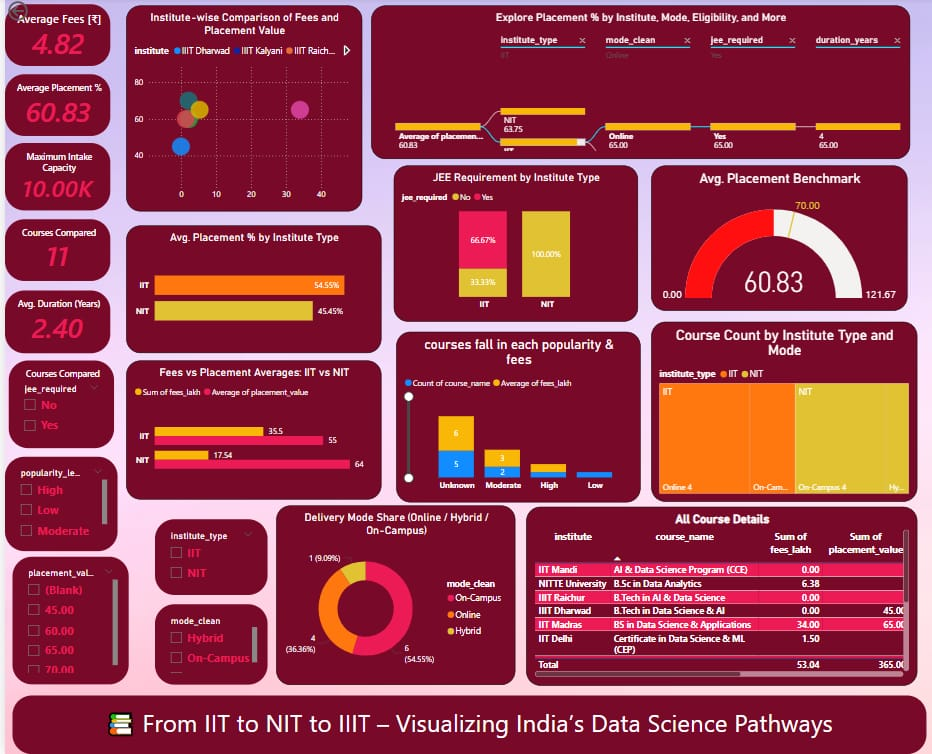

Layout of this report page (visuals, bound fields, positions):
{"tool":"powerbi","page":{"name":"Page 1","canvas":[1435,1166],"ordinal":0},"visuals":[{"type":"card","title":"Average Fees [₹]","fields":{"Values":["Avg(SQL_DS.fees_lakh)"]},"box":[0,10,162.5,95.5],"z":0},{"type":"card","title":"Average Placement %","fields":{"Values":["Avg(SQL_DS.placement_value)"]},"box":[0,118.3,162.5,95.5],"z":1000},{"type":"card","title":"Maximum Intake Capacity","fields":{"Values":["Max(SQL_DS.intake_estimate)"]},"box":[0,223.8,162.5,104.1],"z":2000},{"type":"card","title":"Courses Compared","fields":{"Values":["CountNonNull(SQL_DS.course_name)"]},"box":[0,340.8,162,95.2],"z":3000},{"type":"slicer","title":"Courses Compared","fields":{"Values":["SQL_DS.jee_required"]},"box":[5,559.6,162,135.3],"z":4000},{"type":"card","title":"Avg. Duration (Years)","fields":{"Values":["Avg(SQL_DS.duration_years)"]},"box":[0,451,162,96.9],"z":5000},{"type":"donutChart","title":"Delivery Mode Share (Online / Hybrid / On-Campus)","fields":{"Category":["SQL_DS.mode_clean"],"Y":["CountNonNull(SQL_DS.course_name)"]},"box":[418.7,782.4,369,276.8],"z":6000},{"type":"clusteredBarChart","title":"Avg. Placement % by Institute Type","fields":{"Category":["SQL_DS.institute_type"],"Y":["CountNonNull(SQL_DS.placement_percent)"]},"box":[186.3,351.3,393.9,196.9],"z":7000},{"type":"clusteredBarChart","title":"Fees vs Placement Averages: IIT vs NIT","fields":{"Category":["SQL_DS.institute_type"],"Y":["Sum(SQL_DS.fees_lakh)","Avg(SQL_DS.placement_value)"]},"box":[186.3,558.9,393.9,214.7],"z":8000},{"type":"scatterChart","title":"Institute-wise Comparison of Fees and Placement Value","fields":{"X":["Sum(SQL_DS.fees_lakh)"],"Y":["Avg(SQL_DS.placement_value)"],"Size":["CountNonNull(SQL_DS.id)"],"Category":["SQL_DS.course_name"],"Series":["SQL_DS.institute"]},"box":[186.3,10.6,363.7,317.6],"z":9000},{"type":"tableEx","title":"All Course Details","fields":{"Values":["SQL_DS.institute","SQL_DS.course_name","Sum(SQL_DS.fees_lakh)","Sum(SQL_DS.placement_value)","Sum(SQL_DS.duration_years)","SQL_DS.mode_clean","SQL_DS.jee_required","SQL_DS.popularity_level"]},"box":[803.9,784.7,603.4,275.7],"z":10000},{"type":"slicer","fields":{"Values":["SQL_DS.institute_type"]},"box":[230.6,803.7,173.9,117.1],"z":11000},{"type":"slicer","fields":{"Values":["SQL_DS.popularity_level"]},"box":[0,708.2,173.7,145.3],"z":12000},{"type":"slicer","fields":{"Values":["SQL_DS.placement_value"]},"box":[10.6,862.2,179.2,196.9],"z":13000},{"type":"slicer","fields":{"Values":["SQL_DS.mode_clean"]},"box":[230.6,935,173.9,124.2],"z":14000},{"type":"columnChart","title":"courses fall in each popularity & fees","fields":{"Category":["SQL_DS.popularity_level"],"Y":["Count(SQL_DS.course_name)","Avg(SQL_DS.fees_lakh)"]},"box":[603.1,514.8,376.9,262.9],"z":15000},{"type":"treemap","title":"Course Count by Institute Type and Mode","fields":{"Group":["SQL_DS.institute_type"],"Details":["SQL_DS.mode_clean"],"Values":["CountNonNull(SQL_DS.course_name)"]},"box":[996.5,500.1,410,277.6],"z":16000},{"type":"hundredPercentStackedColumnChart","title":"JEE Requirement by Institute Type","fields":{"Category":["SQL_DS.institute_type"],"Series":["SQL_DS.jee_required"],"Y":["CountNonNull(SQL_DS.course_name)"]},"box":[599.4,259.2,376.9,240.9],"z":17000},{"type":"gauge","title":"Avg. Placement Benchmark","fields":{"Y":["Avg(SQL_DS.placement_value)"],"TargetValue":["Max(SQL_DS.placement_value)1"]},"box":[996.5,259.2,395.3,224.3],"z":18000},{"type":"decompositionTreeVisual","title":"Explore Placement % by Institute, Mode, Eligibility, and More","fields":{"Analyze":["Avg(SQL_DS.placement_value)"],"ExplainBy":["SQL_DS.institute_type","SQL_DS.mode_clean","SQL_DS.jee_required","SQL_DS.duration_years","SQL_DS.popularity_level"]},"box":[564.5,11,831.1,237.2],"z":19000},{"type":"actionButton","box":[0,0,100,40],"z":20000},{"type":"textbox","box":[11.6,1075.8,1409.3,90.6],"z":21000}]}

Visuals, with their boxes in screenshot pixels (x1, y1, x2, y2), scaled from the page's 1435x1166 canvas onto the 932x754 screenshot:
"Average Fees [₹]" card: 0, 6, 106, 68
"Average Placement %" card: 0, 76, 106, 138
"Maximum Intake Capacity" card: 0, 145, 106, 212
"Courses Compared" card: 0, 220, 105, 282
"Courses Compared" slicer: 3, 362, 108, 449
"Avg. Duration (Years)" card: 0, 292, 105, 354
"Delivery Mode Share (Online / Hybrid / On-Campus)" donutChart: 272, 506, 512, 685
"Avg. Placement % by Institute Type" clusteredBarChart: 121, 227, 377, 354
"Fees vs Placement Averages: IIT vs NIT" clusteredBarChart: 121, 361, 377, 500
"Institute-wise Comparison of Fees and Placement Value" scatterChart: 121, 7, 357, 212
"All Course Details" tableEx: 522, 507, 914, 686
slicer - SQL_DS.institute_type: 150, 520, 263, 595
slicer - SQL_DS.popularity_level: 0, 458, 113, 552
slicer - SQL_DS.placement_value: 7, 558, 123, 685
slicer - SQL_DS.mode_clean: 150, 605, 263, 685
"courses fall in each popularity & fees" columnChart: 392, 333, 636, 503
"Course Count by Institute Type and Mode" treemap: 647, 323, 913, 503
"JEE Requirement by Institute Type" hundredPercentStackedColumnChart: 389, 168, 634, 323
"Avg. Placement Benchmark" gauge: 647, 168, 904, 313
"Explore Placement % by Institute, Mode, Eligibility, and More" decompositionTreeVisual: 367, 7, 906, 160
actionButton: 0, 0, 65, 26
textbox: 8, 696, 923, 753
